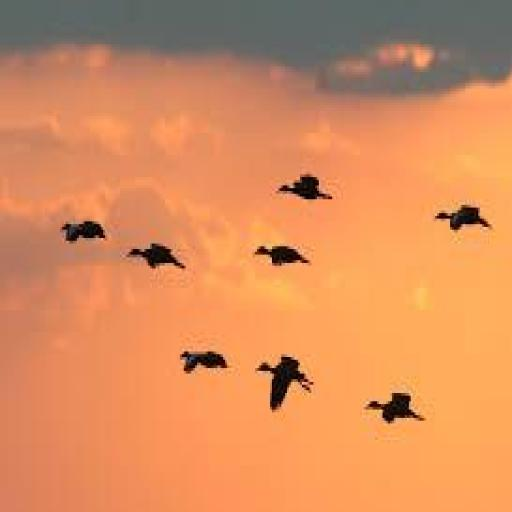birds: (251, 347, 318, 409), (274, 163, 333, 210), (364, 385, 428, 428), (125, 235, 186, 279), (177, 339, 232, 384), (252, 235, 310, 274), (433, 204, 494, 240), (57, 214, 105, 253)
